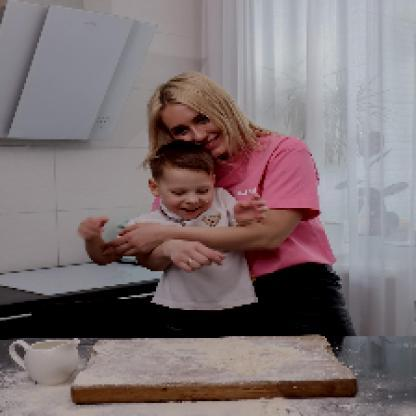child: (76, 140, 271, 337)
